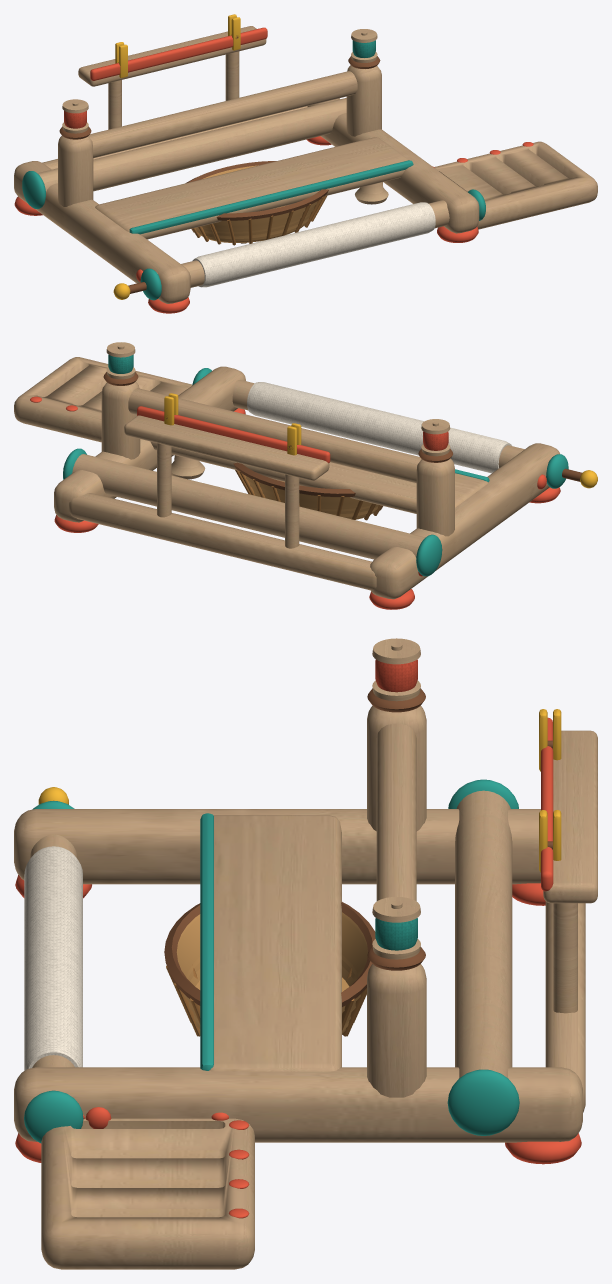
File: loom.glb
3 views of the same model, one above another, from view 1: azimuth 30°, elevation 25°; view 2: azimuth 150°, elevation 25°; view 3: azimuth 270°, elevation 25° (orthographic). The views are drawn at different scales.
Parts seen in each view (by area): view 1: ShelfTop, BackBeam, LeverBlock, ClothWrap, HeddleBar, RailL, RailR, ShelfLip, PostL, PostR, BasketBowl, EaselLip (+13 smaller); view 2: BackBeam, EaselStretcher, ClothWrap, RailL, LeverBlock, HeddleBar, EaselLedge, ShelfTop, RailR, PostL, PostR, EaselLip (+14 smaller); view 3: ShelfTop, LeverBlock, RailR, RailL, BackBeam, ClothWrap, PostR, EaselLedge, HeddleBar, EaselStretcher, BackBeamCapR, ShelfLip (+13 smaller).
Boxes of the visible parts, bbox=[...] form: ShelfTop: bbox=[95, 137, 409, 239]; BackBeam: bbox=[37, 98, 346, 191]; LeverBlock: bbox=[434, 141, 597, 229]; ClothWrap: bbox=[192, 202, 435, 287]; HeddleBar: bbox=[88, 71, 357, 158]; RailL: bbox=[14, 161, 190, 303]; RailR: bbox=[307, 98, 479, 233]; ShelfLip: bbox=[129, 160, 413, 234]; PostL: bbox=[58, 136, 93, 206]; PostR: bbox=[346, 65, 381, 136]; BasketBowl: bbox=[195, 165, 323, 242]; EaselLip: bbox=[90, 27, 267, 80]; BackBeam: bbox=[72, 454, 425, 559]; EaselStretcher: bbox=[69, 493, 376, 590]; ClothWrap: bbox=[247, 382, 511, 473]; RailL: bbox=[370, 443, 559, 599]; LeverBlock: bbox=[14, 357, 192, 442]; HeddleBar: bbox=[128, 388, 421, 483]; EaselLedge: bbox=[124, 415, 329, 480]; ShelfTop: bbox=[150, 441, 488, 513]; RailR: bbox=[54, 366, 245, 522]; PostL: bbox=[416, 458, 454, 536]; PostR: bbox=[101, 381, 140, 459]; EaselLip: bbox=[137, 406, 330, 463]; ShelfTop: bbox=[209, 815, 341, 1071]; LeverBlock: bbox=[41, 1118, 254, 1269]; RailR: bbox=[14, 1067, 582, 1142]; RailL: bbox=[14, 809, 540, 884]; BackBeam: bbox=[455, 790, 512, 1077]; ClothWrap: bbox=[24, 846, 82, 1070]; PostR: bbox=[367, 964, 426, 1097]; EaselLedge: bbox=[543, 730, 597, 903]; HeddleBar: bbox=[376, 723, 416, 901]; EaselStretcher: bbox=[545, 901, 585, 1112]; BackBeamCapR: bbox=[447, 1069, 519, 1135]; ShelfLip: bbox=[200, 813, 213, 1070].
Bounding box in the file's own units: 0.412 × 0.1256 × 0.235.
12 materials, 5 textured.
